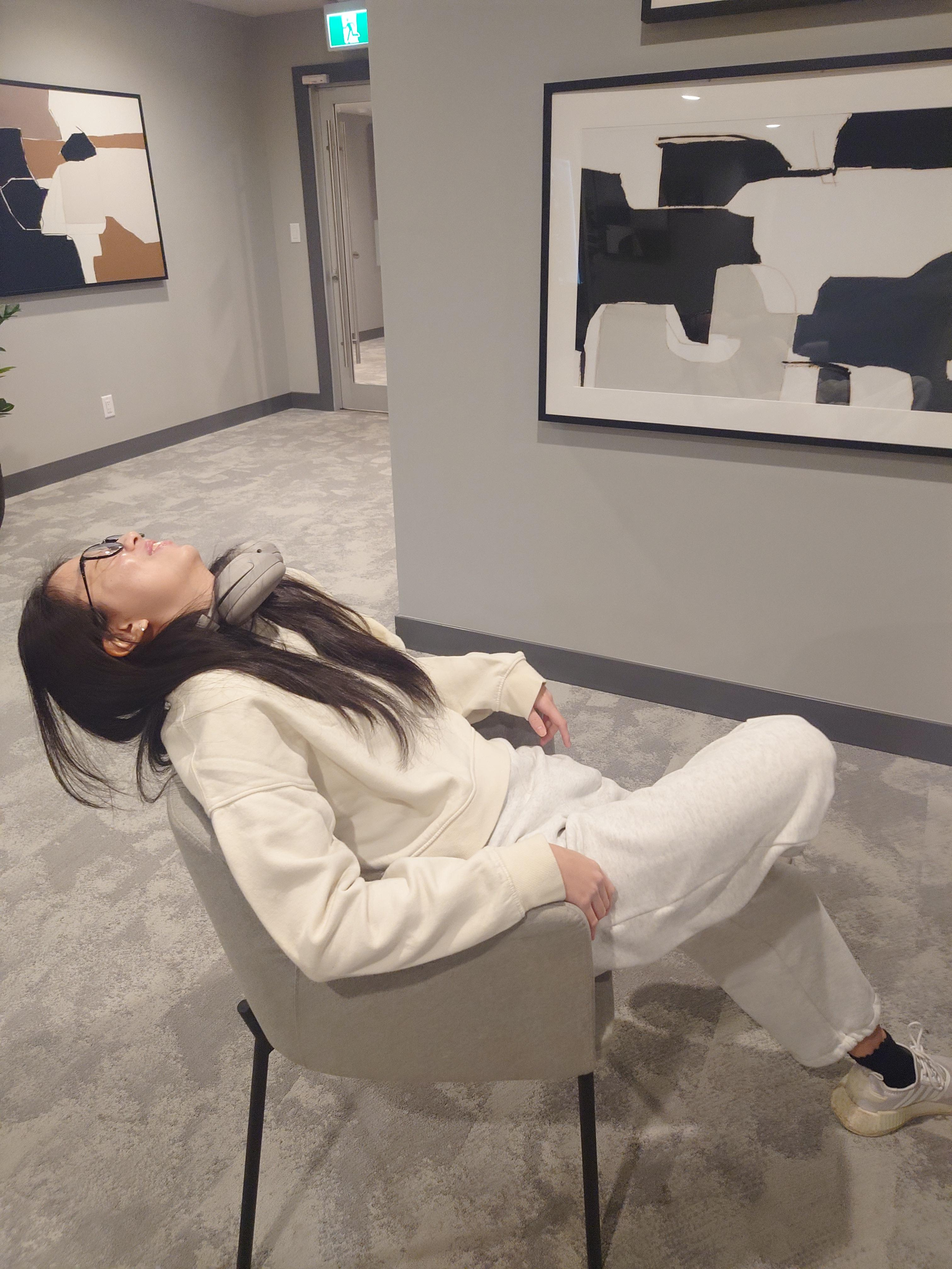BadPosture: (20, 531, 952, 1135)
